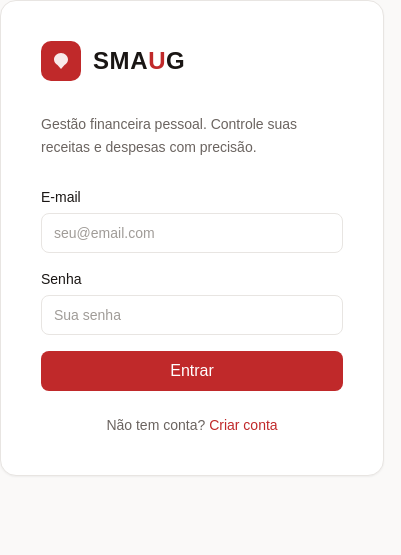
it: página de login › no 500 mostra a mensagem genérica e não abre sessão
The width and height of the screenshot is (401, 555).
Type "maria@example.com" into the field labelled "E-mail". click: (192, 232)
box: top-left (41, 212), bottom-right (343, 252)
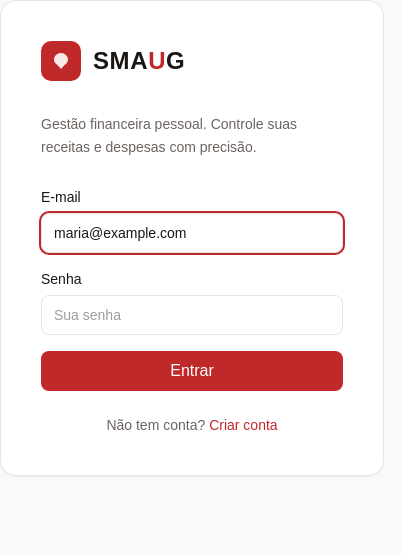
Type "senha muito segura" into the password field labelled "Senha". click: (192, 314)
box: top-left (41, 294), bottom-right (343, 334)
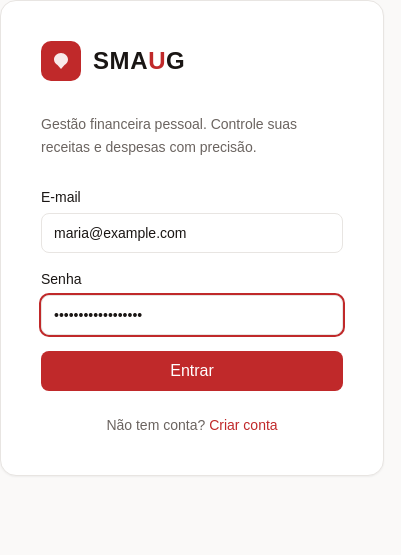
Click the button "Entrar". click: (192, 370)
box: top-left (41, 350), bottom-right (343, 390)
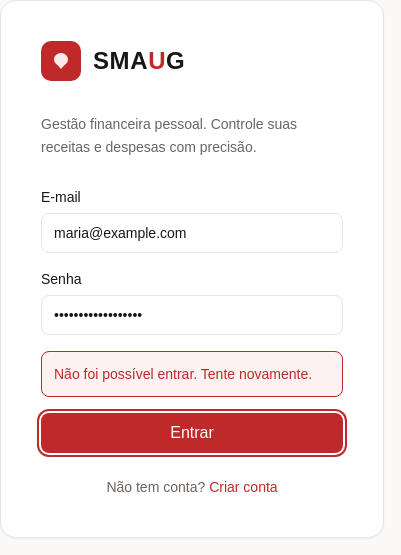
Expected: the text "Não foi possível entrar. Tente novamente." is shown, top-left (41, 350), bottom-right (343, 396)
